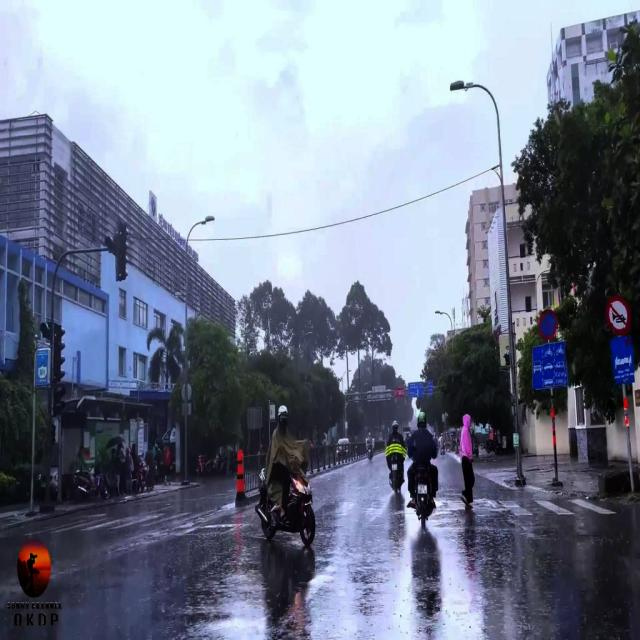cam_do_xe: (540, 309, 558, 338)
cam_su_dung_coi: (606, 293, 632, 336)
khac: (608, 336, 634, 384)
lan_duong_cho_tung_xe_theo_vach_ke_duong: (532, 341, 568, 388)
